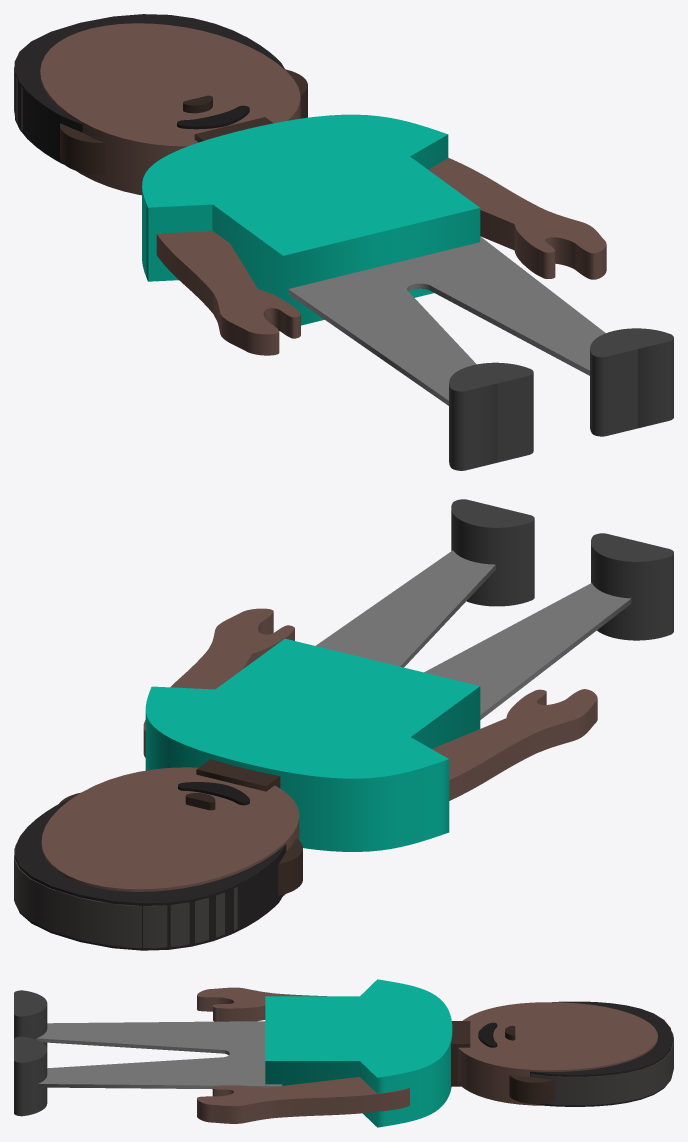
Rendered from emoji_u1f9cd_1f3ff_200d_2642.glb.
3 renders of one model, top to bottom at view 1: azimuth 30°, elevation 25°; view 2: azimuth 150°, elevation 25°; view 3: azimuth 270°, elevation 25°, orthographic. The views are drawn at different scales.
Parts seen in each view (by area): view 1: emoji_u1f9cd_1f3ff_200d_2642; view 2: emoji_u1f9cd_1f3ff_200d_2642; view 3: emoji_u1f9cd_1f3ff_200d_2642.
Boxes of the visible parts, x1,y1,x2,y2 form: emoji_u1f9cd_1f3ff_200d_2642: [14, 14, 673, 470]; emoji_u1f9cd_1f3ff_200d_2642: [14, 499, 673, 950]; emoji_u1f9cd_1f3ff_200d_2642: [14, 979, 673, 1127].
Bounding box in the file's own units: 0.0145 × 0.003 × 0.0336.
